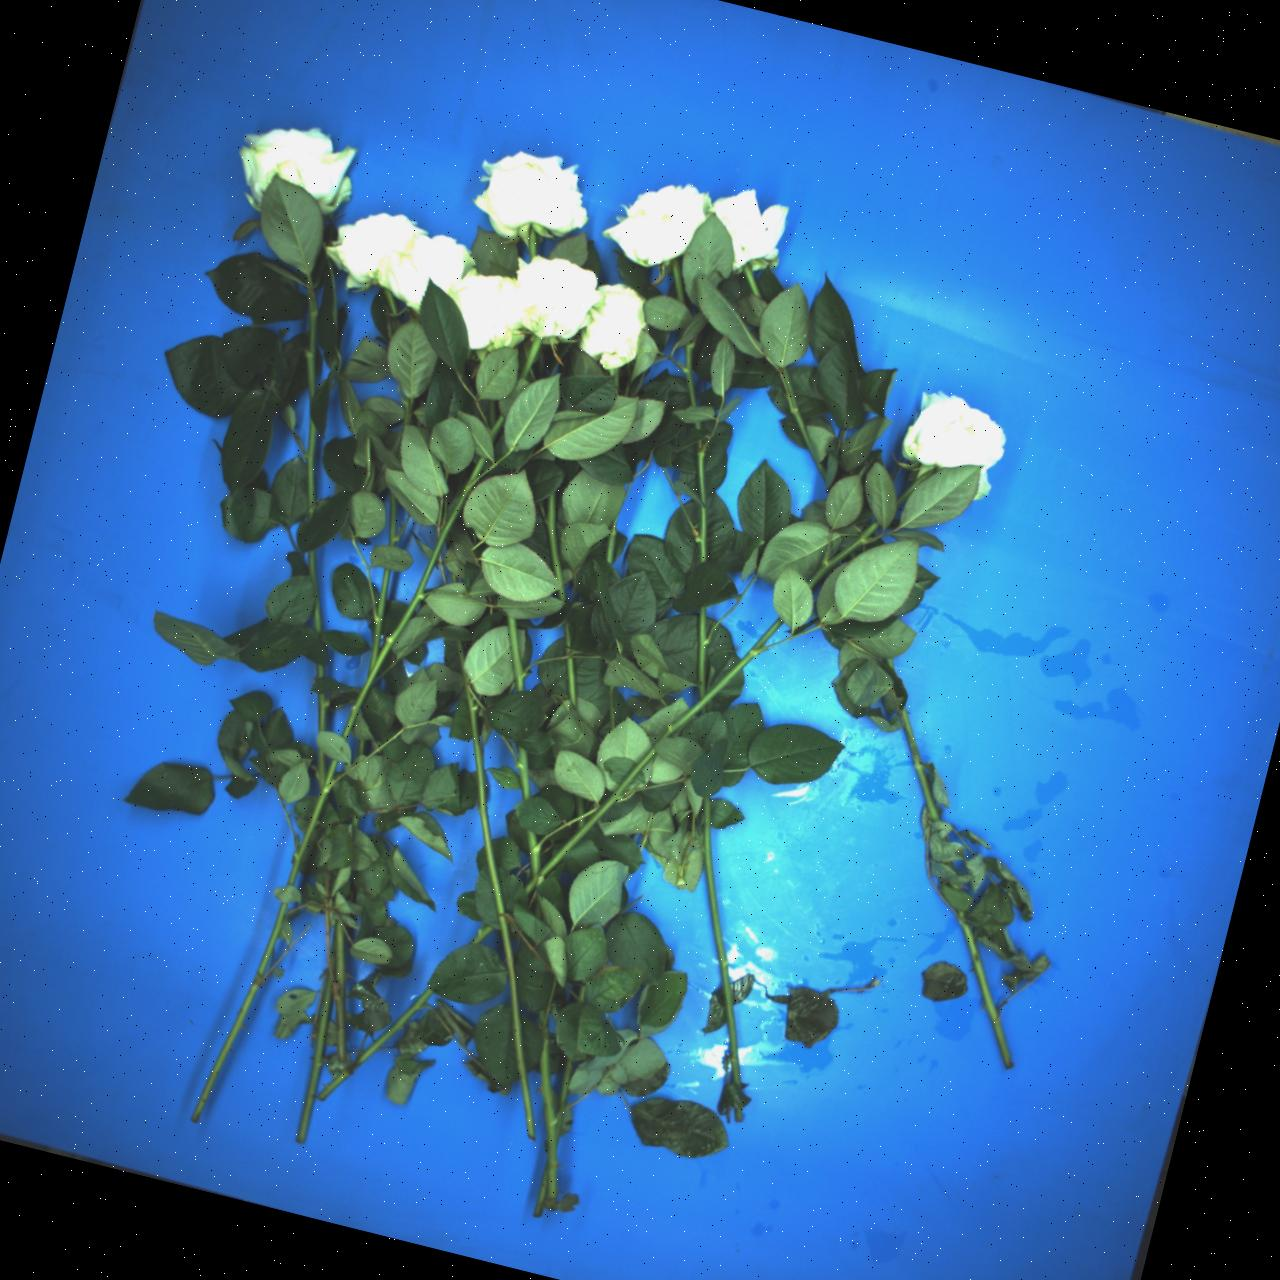Stem: (332, 455, 493, 740), (450, 639, 542, 1142), (184, 901, 294, 1123), (518, 747, 661, 894), (651, 617, 787, 747), (696, 797, 747, 1122), (315, 986, 434, 1103), (295, 928, 346, 1143), (954, 911, 1014, 1069), (285, 760, 340, 886), (774, 367, 830, 485), (801, 516, 880, 588), (894, 707, 940, 822), (537, 1009, 559, 1197), (542, 492, 567, 602), (366, 567, 392, 678), (551, 1058, 574, 1138), (334, 921, 347, 1062), (892, 468, 934, 506), (305, 275, 318, 401), (306, 549, 322, 635), (563, 620, 578, 710), (506, 614, 524, 692), (515, 336, 543, 382), (696, 607, 709, 699), (306, 417, 316, 522), (680, 341, 696, 407), (532, 1164, 551, 1217), (516, 744, 531, 799), (467, 922, 493, 948), (526, 828, 540, 874), (605, 516, 618, 564), (743, 267, 762, 300), (695, 440, 704, 505), (695, 506, 706, 563), (387, 491, 397, 546), (672, 259, 685, 304), (486, 414, 506, 442), (382, 285, 399, 314), (573, 795, 585, 828), (318, 747, 326, 790), (402, 395, 413, 424), (318, 693, 326, 730), (608, 686, 615, 729), (527, 229, 537, 259), (577, 983, 587, 1002), (489, 400, 496, 428), (356, 738, 366, 757), (350, 812, 360, 829), (315, 662, 325, 679), (885, 658, 894, 672), (614, 374, 618, 394), (694, 422, 701, 430), (451, 573, 457, 583)
flower: (601, 161, 722, 281), (313, 188, 424, 301), (898, 386, 1014, 484), (370, 217, 479, 318), (239, 127, 356, 213), (475, 151, 587, 238), (445, 259, 538, 358), (710, 179, 802, 273), (573, 277, 655, 376), (513, 256, 601, 341)
